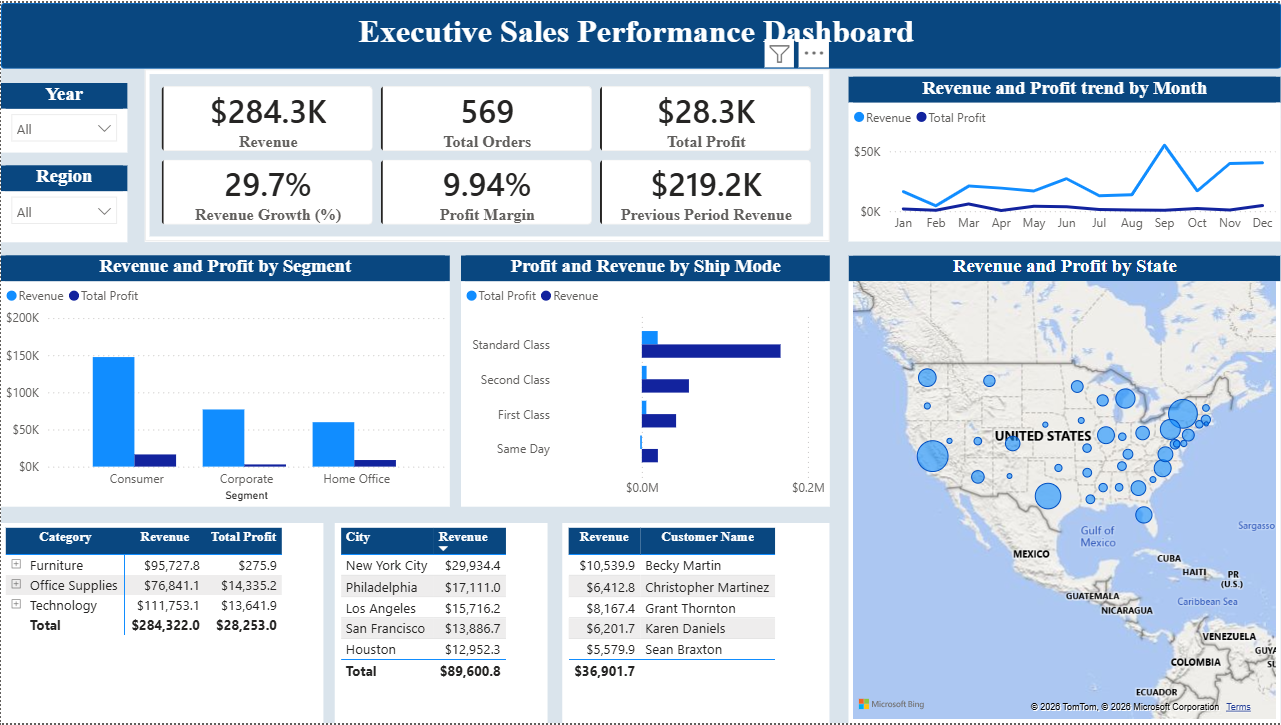

The page's visual inventory and layout, read from the dashboard file:
{"tool":"powerbi","page":{"name":"Page 1","canvas":[1280,720],"ordinal":0},"visuals":[{"type":"shape","box":[0,0,1280.3,65.9],"z":0},{"type":"textbox","box":[0,5.5,1270.7,53.5],"z":2000},{"type":"slicer","title":"Year","fields":{"Values":["Calendar.Year"]},"box":[0,79.6,126.2,70],"z":2001},{"type":"slicer","title":"Region","fields":{"Values":["sales_and_profit_trends.Region"]},"box":[0,161.9,126.2,76.8],"z":2002},{"type":"cardVisual","fields":{"Data":["sales_and_profit_trends.Revenue","sales_and_profit_trends.Total Orders","sales_and_profit_trends.Total Profit","sales_and_profit_trends.Revenue Growth (%)","sales_and_profit_trends.Profit Margin","sales_and_profit_trends.Previous Period Revenue"]},"box":[144.1,65.9,684.7,172.9],"z":2003},{"type":"lineChart","title":"Revenue and Profit trend by Month","fields":{"Category":["Calendar.Month Name"],"Y":["sales_and_profit_trends.Revenue","sales_and_profit_trends.Total Profit"]},"box":[848,74.1,432.2,164.7],"z":2004},{"type":"pivotTable","fields":{"Rows":["sales_and_profit_trends.Category","sales_and_profit_trends.Sub-Category"],"Values":["sales_and_profit_trends.Revenue","sales_and_profit_trends.Total Profit"]},"box":[0,520.1,322.5,200.3],"z":2006},{"type":"tableEx","fields":{"Values":["sales_and_profit_trends.City","sales_and_profit_trends.Revenue"]},"box":[333.4,520.1,212.7,200.3],"z":2007},{"type":"clusteredColumnChart","title":"Revenue and Profit by Segment","fields":{"Y":["sales_and_profit_trends.Revenue","sales_and_profit_trends.Total Profit"],"Category":["sales_and_profit_trends.Segment"]},"box":[0,252.5,448.7,251.1],"z":2008},{"type":"clusteredBarChart","title":"Profit and Revenue by Ship Mode","fields":{"Y":["sales_and_profit_trends.Total Profit","sales_and_profit_trends.Revenue"],"Category":["sales_and_profit_trends.Ship Mode"]},"box":[459.7,252.5,369.1,251.1],"z":2009},{"type":"map","title":"Revenue and Profit by State","fields":{"Category":["sales_and_profit_trends.State"],"Size":["sales_and_profit_trends.Revenue"]},"box":[848,252.5,432.2,467.9],"z":2010},{"type":"tableEx","fields":{"Values":["sales_and_profit_trends.Revenue","sales_and_profit_trends.Customer Name"]},"box":[561.2,520.1,267.6,200.3],"z":2011}]}

Visuals, with their boxes in screenshot pixels (x1, y1, x2, y2), scaled from the page's 1280x720 canvas onto the 1281x725 screenshot:
shape: <bbox>0, 0, 1280, 66</bbox>
textbox: <bbox>0, 6, 1272, 59</bbox>
"Year" slicer: <bbox>0, 80, 126, 151</bbox>
"Region" slicer: <bbox>0, 163, 126, 240</bbox>
cardVisual - sales_and_profit_trends.Revenue x sales_and_profit_trends.Total Orders: <bbox>144, 66, 829, 240</bbox>
"Revenue and Profit trend by Month" lineChart: <bbox>849, 75, 1280, 240</bbox>
pivotTable - sales_and_profit_trends.Category x sales_and_profit_trends.Sub-Category: <bbox>0, 524, 323, 724</bbox>
tableEx - sales_and_profit_trends.City x sales_and_profit_trends.Revenue: <bbox>334, 524, 547, 724</bbox>
"Revenue and Profit by Segment" clusteredColumnChart: <bbox>0, 254, 449, 507</bbox>
"Profit and Revenue by Ship Mode" clusteredBarChart: <bbox>460, 254, 829, 507</bbox>
"Revenue and Profit by State" map: <bbox>849, 254, 1280, 724</bbox>
tableEx - sales_and_profit_trends.Revenue x sales_and_profit_trends.Customer Name: <bbox>562, 524, 829, 724</bbox>
